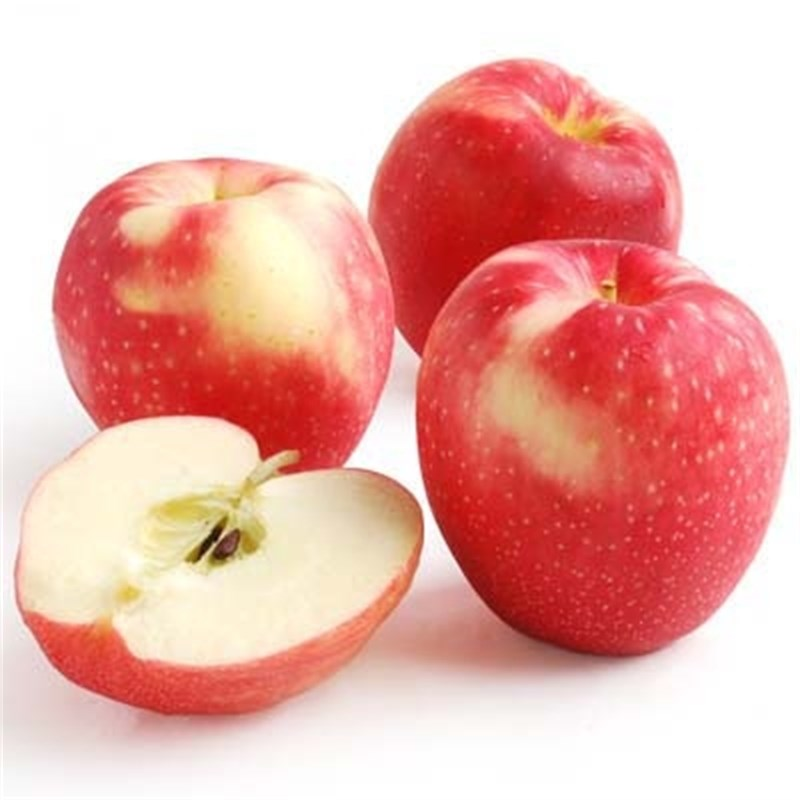apple: (418, 232, 794, 663)
